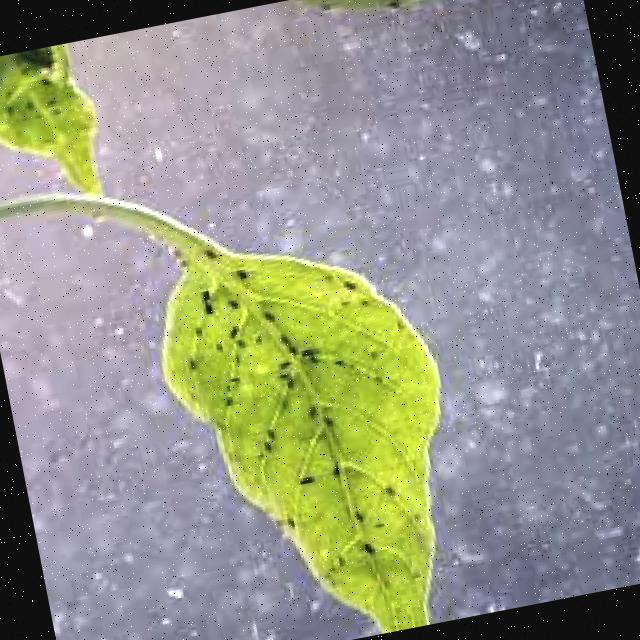leaf spot: (71, 194, 524, 640)
